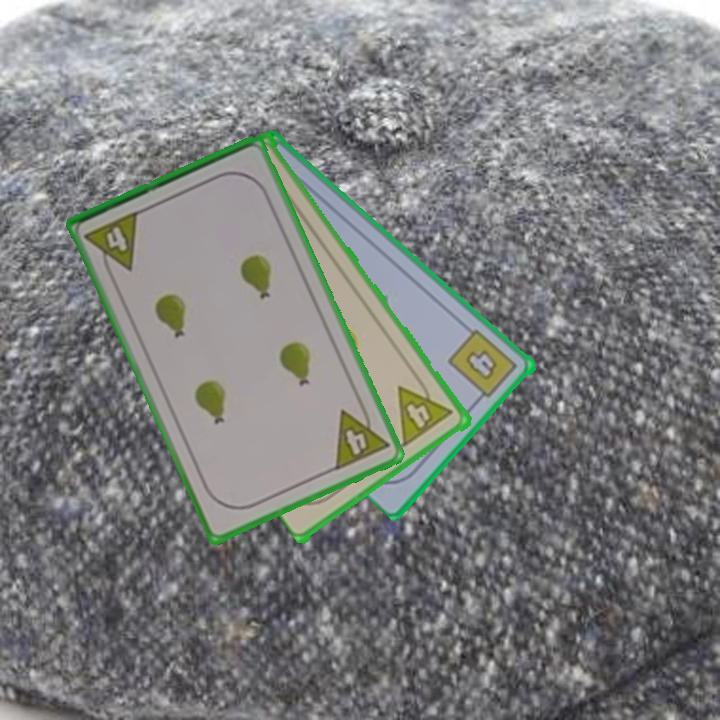4b: (445, 325, 521, 407)
4p: (394, 372, 457, 449), (331, 398, 393, 474), (81, 207, 143, 280)
